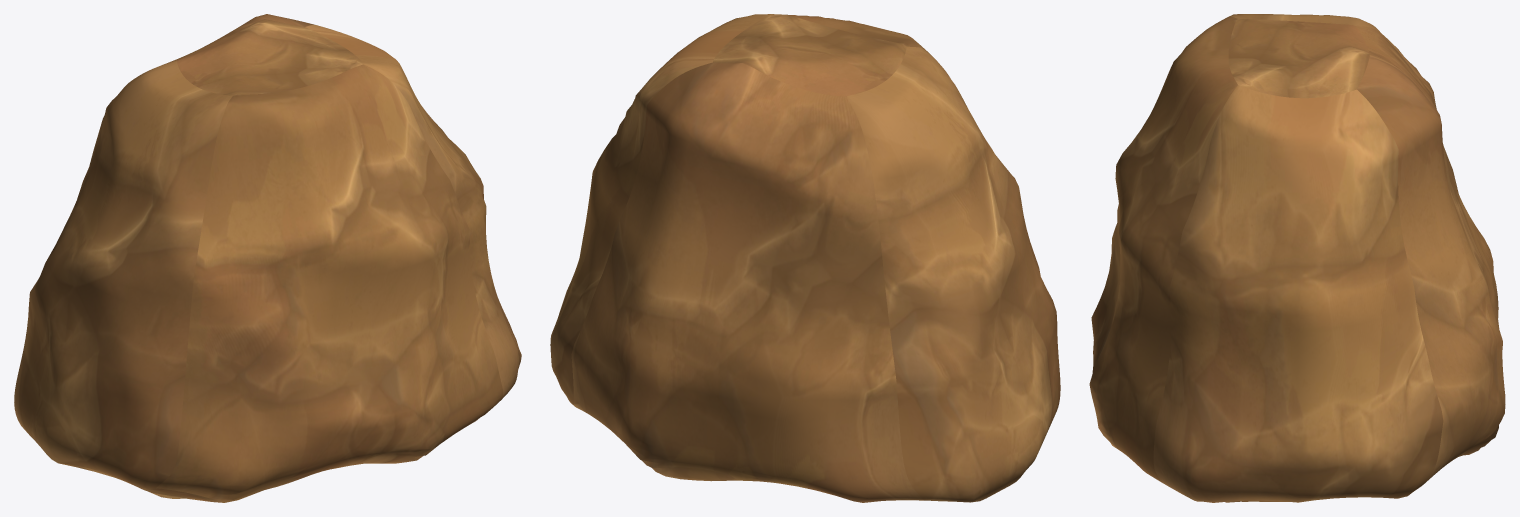
File: islands5.fbx
3 views of the same model, side by side, from view 1: azimuth 30°, elevation 25°; view 2: azimuth 150°, elevation 25°; view 3: azimuth 270°, elevation 25° (orthographic). The views are drawn at different scales.
Visible parts, largest first — view 1: Cube.004; view 2: Cube.004; view 3: Cube.004.
Part boxes in pixels (box(x1,y1,x2,y2)): Cube.004: box(14, 14, 521, 502); Cube.004: box(550, 14, 1060, 502); Cube.004: box(1089, 14, 1505, 502).
Size of the model in its own units: 816 by 673 by 639.
1 material, 1 textured.
